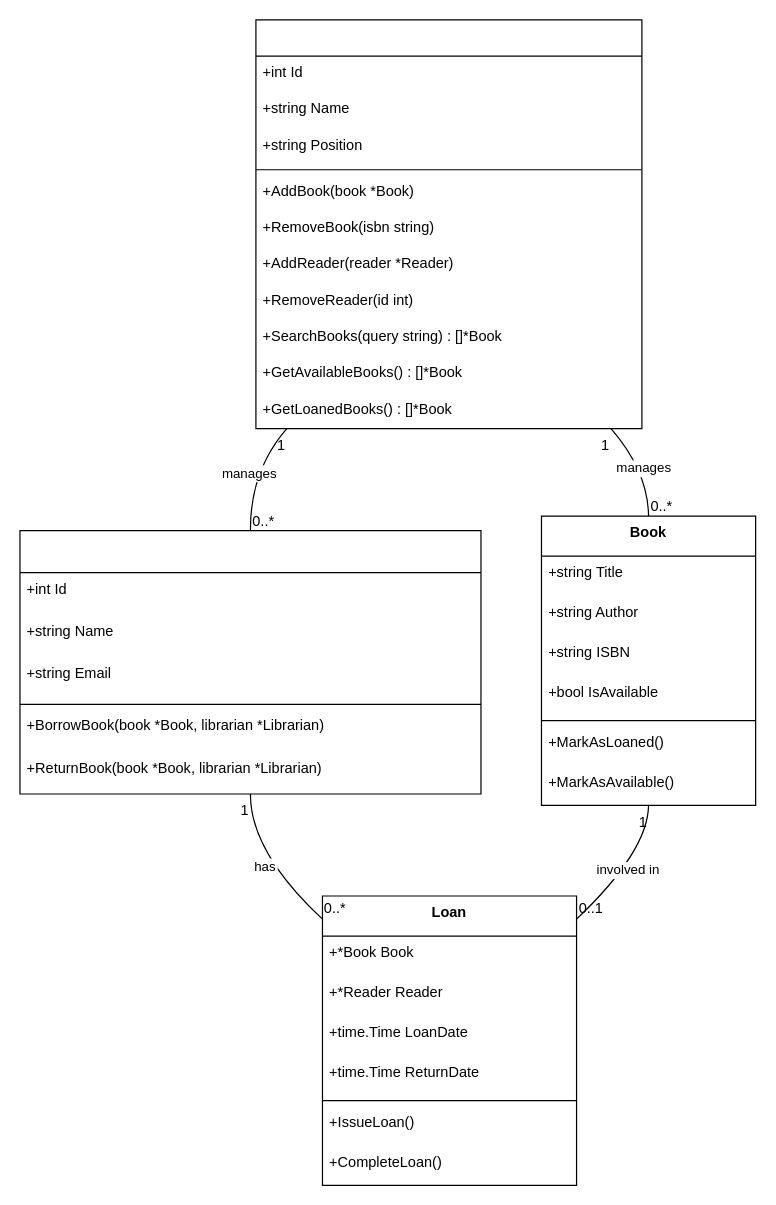
Image size: 776x1205. Some labels were removed from this diagram. The box of each missing label's shape, as (x1, y1, x2, y2) in pixels:
Librarian: (255, 19, 642, 429)
Reader: (19, 529, 481, 794)
